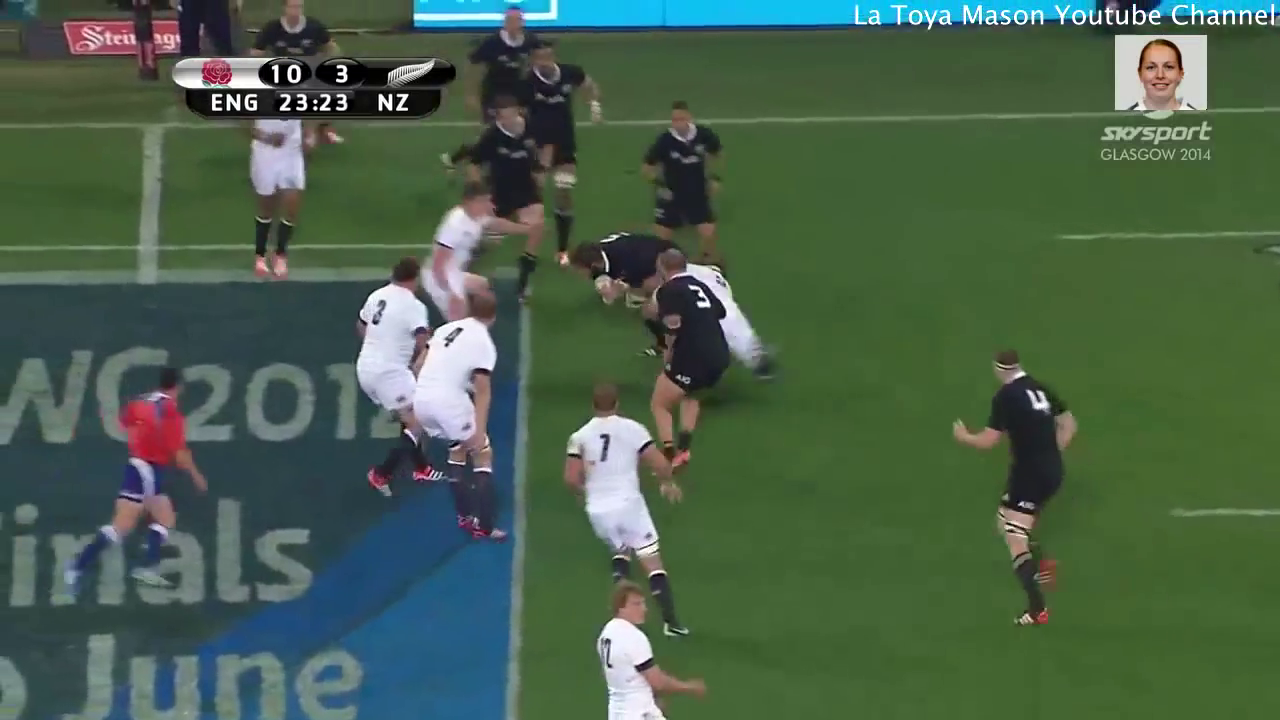ball: (586, 269, 633, 312)
player: (941, 344, 1086, 644), (558, 380, 711, 649), (57, 350, 217, 602), (408, 282, 516, 543), (345, 244, 444, 497), (633, 245, 737, 477), (509, 36, 602, 288), (444, 92, 551, 300), (585, 575, 719, 720), (635, 100, 735, 281), (412, 175, 528, 323), (663, 253, 789, 386), (233, 116, 333, 283), (458, 1, 558, 129), (551, 217, 685, 302)
